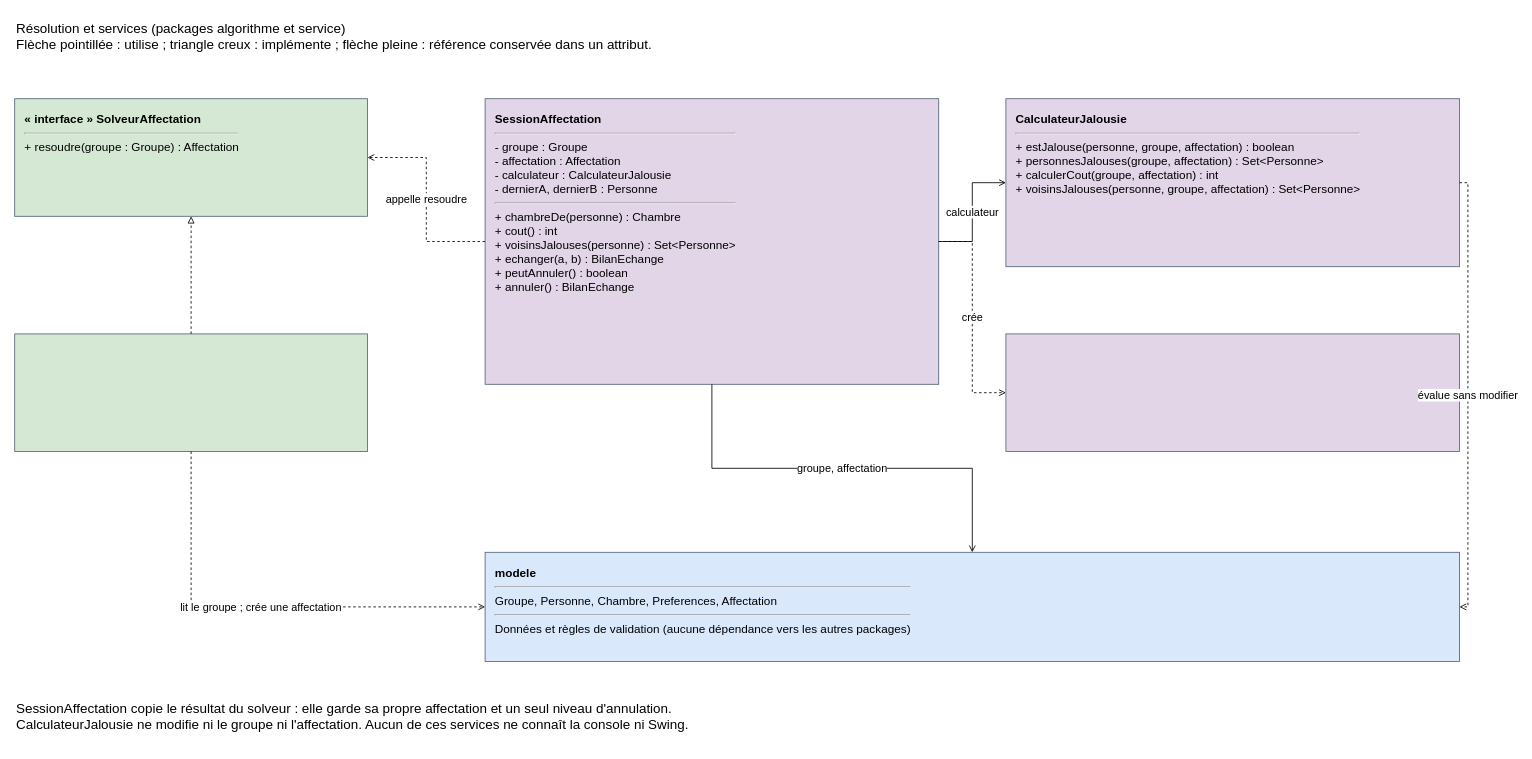
Image size: 1532x759. Some labels were removed from this diagram. The shapes that lost their labels are listed below. From the top down, each one's box as (x1, y1, x2, y2) in pixels, then its label:
(14, 333, 368, 452): SolveurNaif + resoudre(groupe : Groupe) : Affectation
(1005, 333, 1460, 452): « record » BilanEchange avant : int apres : int modification : boolean
